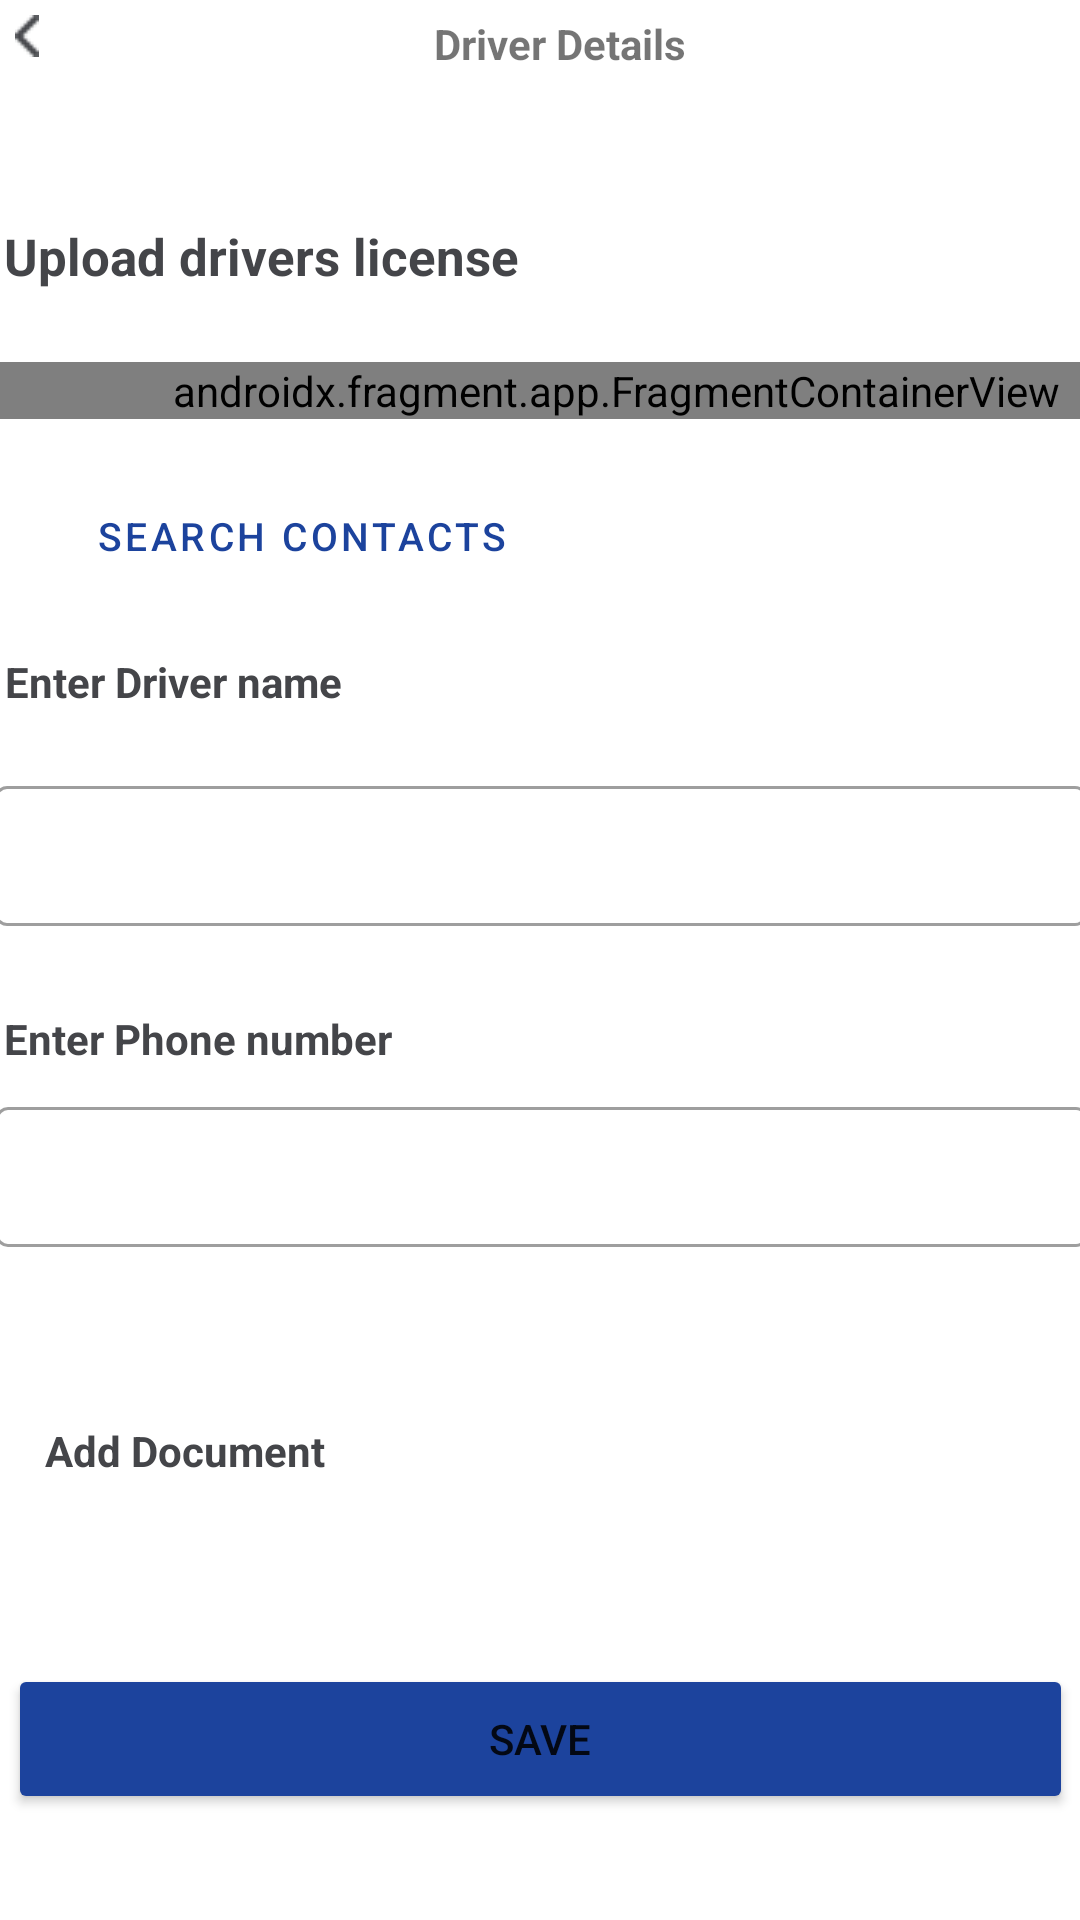

Where to tap for icons on this 1080*1920 app screen, as (x,y):
backbuttonimg: (27,36)
